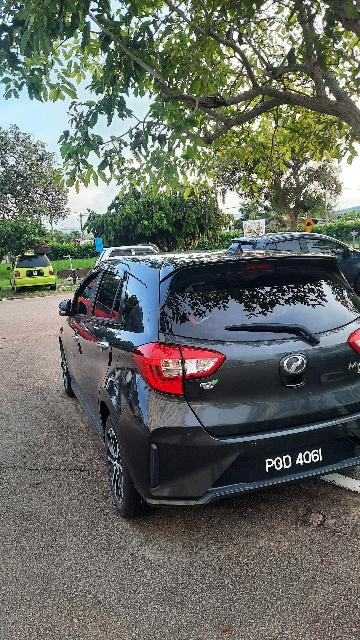License_Plate: (245, 433, 357, 482)
car: (56, 245, 360, 523)
